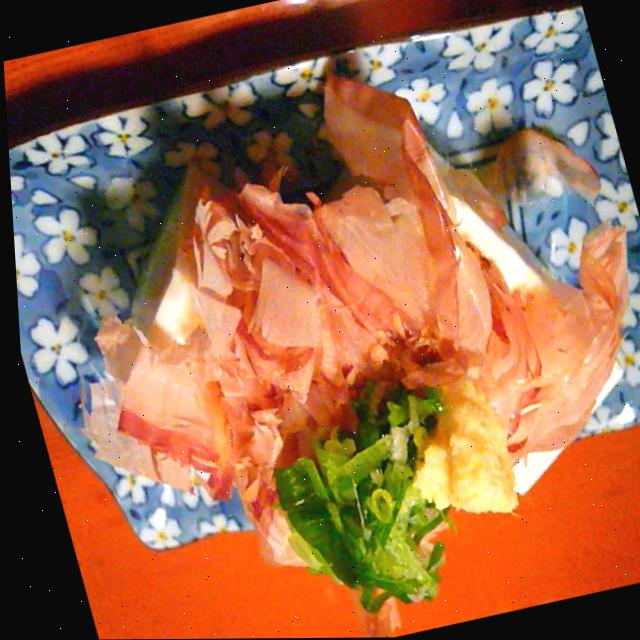豆腐料理: (12, 29, 640, 640)
